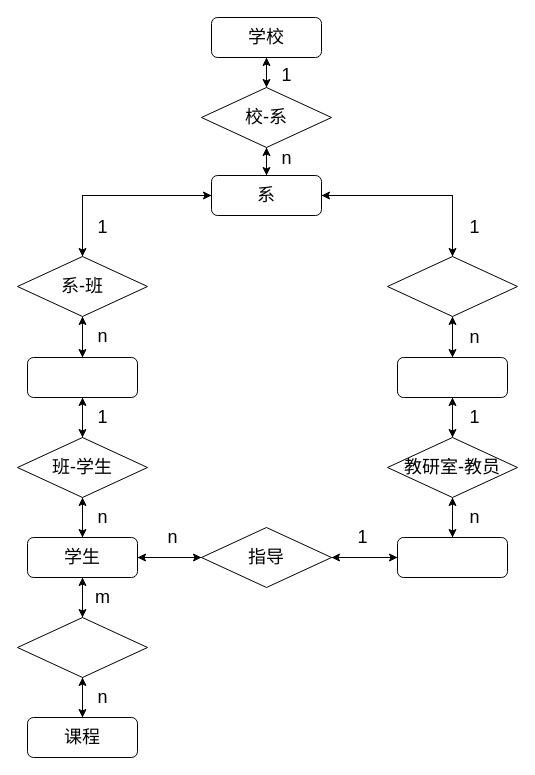
This 535x775 diagram has some shape labels left out. Each missing label, with the centre of its shape:
教员: the point at 452,557
教研室: the point at 452,377
班级: the point at 82,377
系-教研室: the point at 452,286
选修: the point at 82,647
